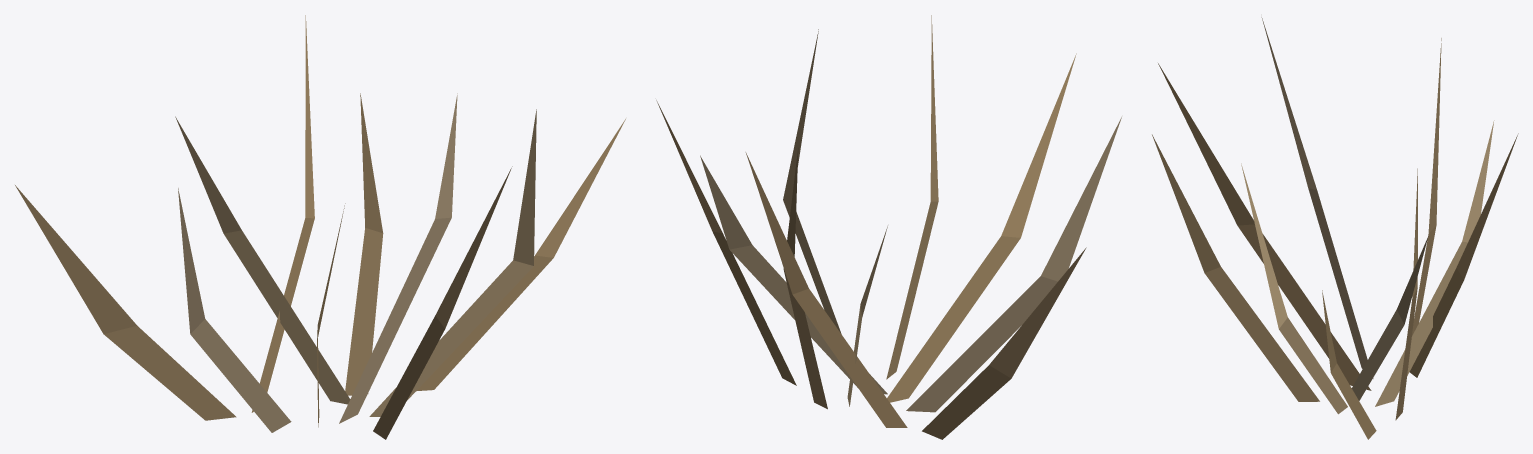
The model's file is Dead_Bush_b_04.fbx.
3 views of the same model, side by side, from view 1: azimuth 30°, elevation 25°; view 2: azimuth 150°, elevation 25°; view 3: azimuth 270°, elevation 25° (orthographic). The views are drawn at different scales.
Visible parts, largest first — view 1: Dead_Bush_b_04; view 2: Dead_Bush_b_04; view 3: Dead_Bush_b_04.
Part boxes in pixels (bbox=[...]): Dead_Bush_b_04: bbox=[15, 15, 625, 439]; Dead_Bush_b_04: bbox=[656, 15, 1121, 439]; Dead_Bush_b_04: bbox=[1152, 17, 1518, 439].
Size of the model in its own units: 85.58 by 49.65 by 56.21.
